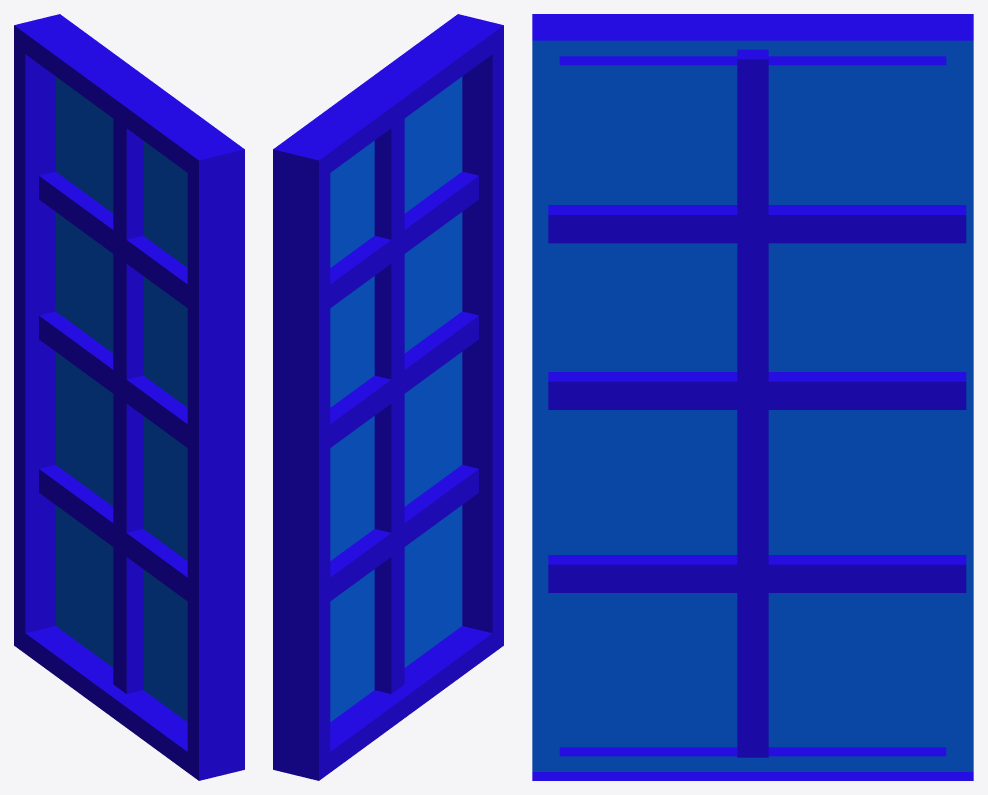
File: SM_Window5.fbx
3 renders of one model, left to right at view 1: azimuth 30°, elevation 25°; view 2: azimuth 150°, elevation 25°; view 3: azimuth 270°, elevation 25°, orthographic. The views are drawn at different scales.
Parts seen in each view (by area): view 1: Window5; view 2: Window5; view 3: Window5.
Part boxes in pixels (x1,y1,x2,y2): Window5: (14, 14, 244, 780); Window5: (273, 14, 503, 780); Window5: (532, 14, 973, 780).
Bounding box in the file's own units: 9.91 × 125 × 67.46.
